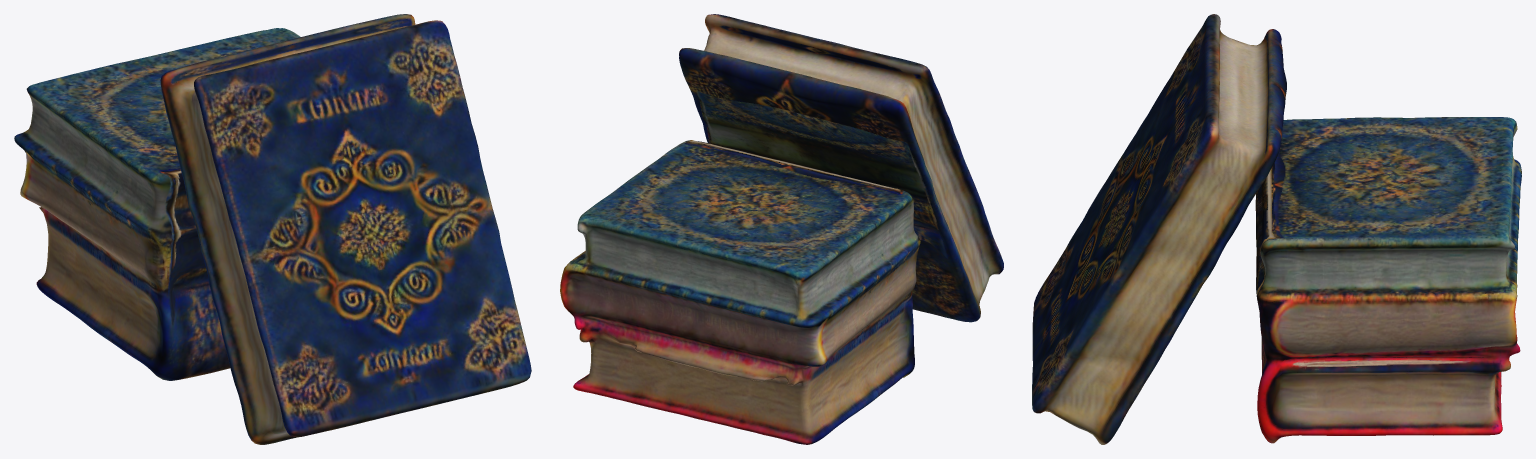
The model's file is Luma_Book.fbx.
The picture shows the model from 3 angles, left to right: view 1: azimuth 30°, elevation 25°; view 2: azimuth 150°, elevation 25°; view 3: azimuth 270°, elevation 25°; orthographic projection. The views are drawn at different scales.
Visible parts, largest first — view 1: mesh; view 2: mesh; view 3: mesh.
Part boxes in pixels (<box>): mesh: <box>14,14,531,444</box>; mesh: <box>560,14,1003,444</box>; mesh: <box>1032,14,1521,444</box>.
Size of the model in its own units: 0.6592 by 0.7244 by 0.998.
